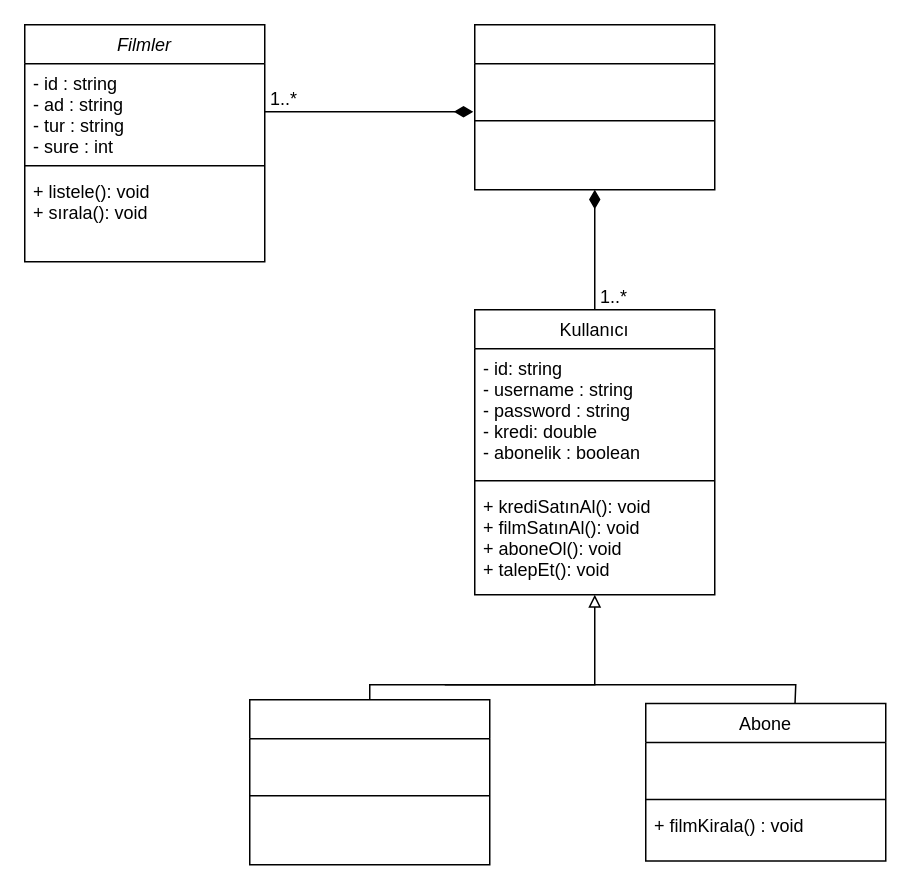
This 911x890 diagram has some shape labels left out. The centre of each missing label's shape, as x and y in pixels:
"Normal" goes at pixel 369 781.
"Uygulama" goes at pixel 594 106.
